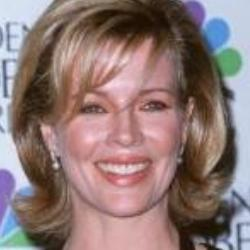face: (11, 4, 230, 243)
